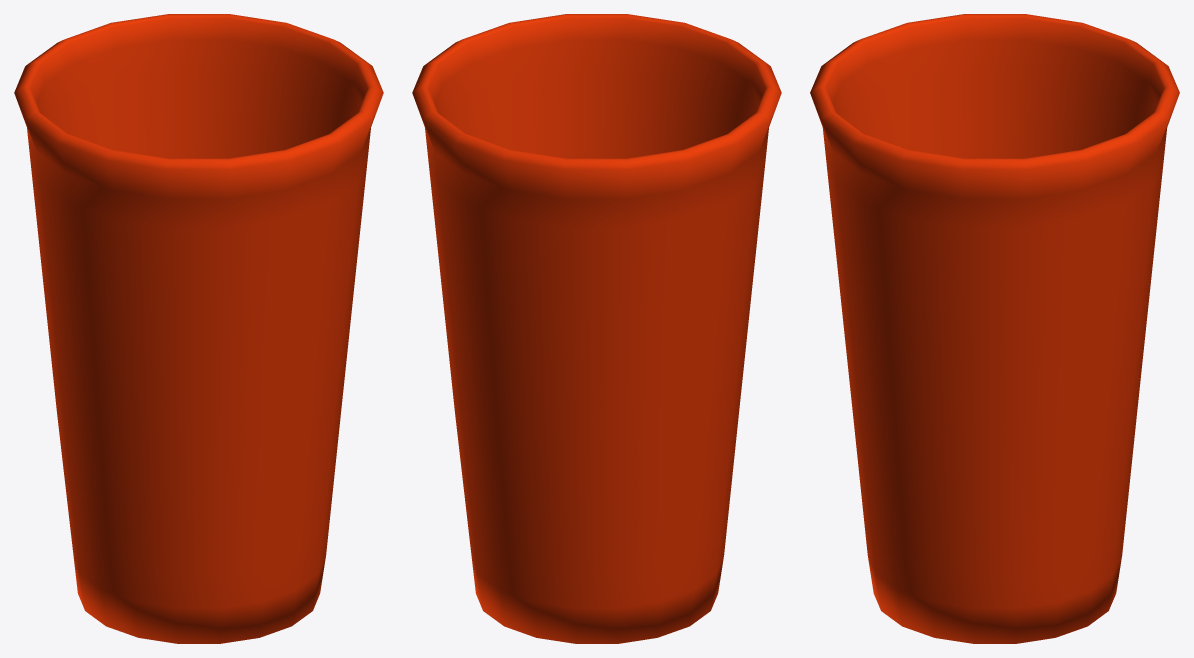
Rendered from cup.glb.
3 views of the same model, side by side, from view 1: azimuth 30°, elevation 25°; view 2: azimuth 150°, elevation 25°; view 3: azimuth 270°, elevation 25° (orthographic).
Visible parts, largest first — view 1: Cup; view 2: Cup; view 3: Cup.
Part boxes in pixels (x1,y1,x2,y2): Cup: (14,14,383,643); Cup: (412,14,781,643); Cup: (810,14,1179,643).
Bounding box in the file's own units: 10.03 × 15.39 × 10.19.
1 material, 1 textured.
